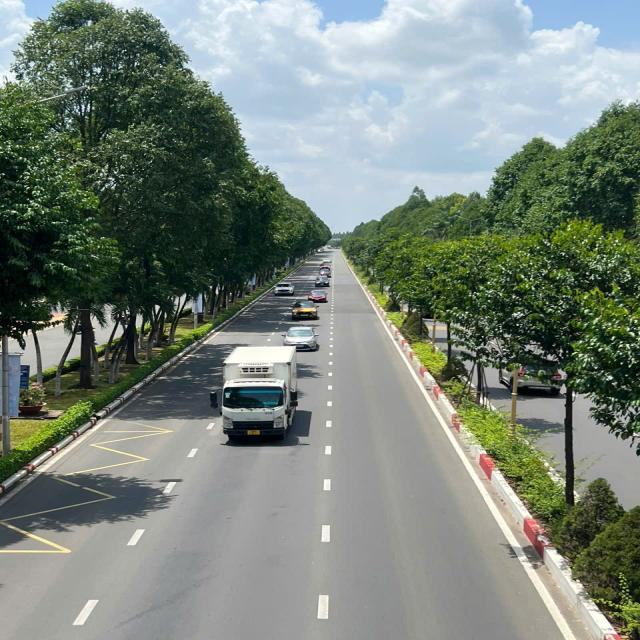ben: (206, 343, 308, 445)
car: (278, 323, 320, 351), (288, 298, 321, 320), (305, 286, 331, 304), (271, 279, 297, 297), (314, 272, 332, 287)
